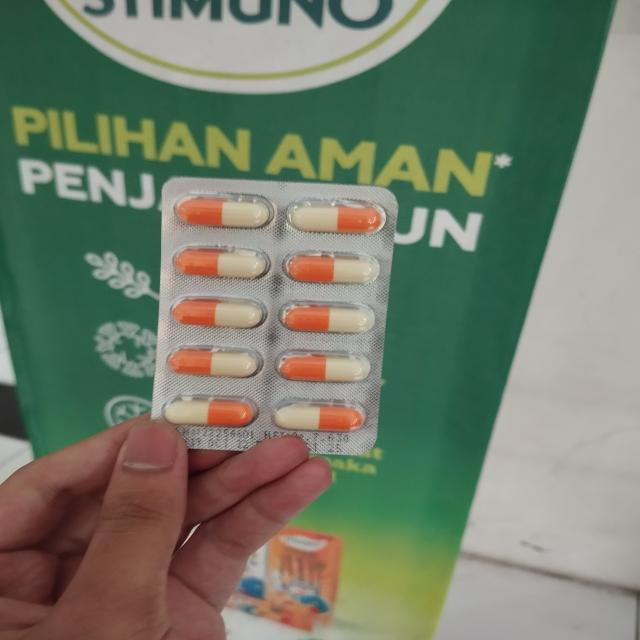B3: (151, 178, 400, 454)
